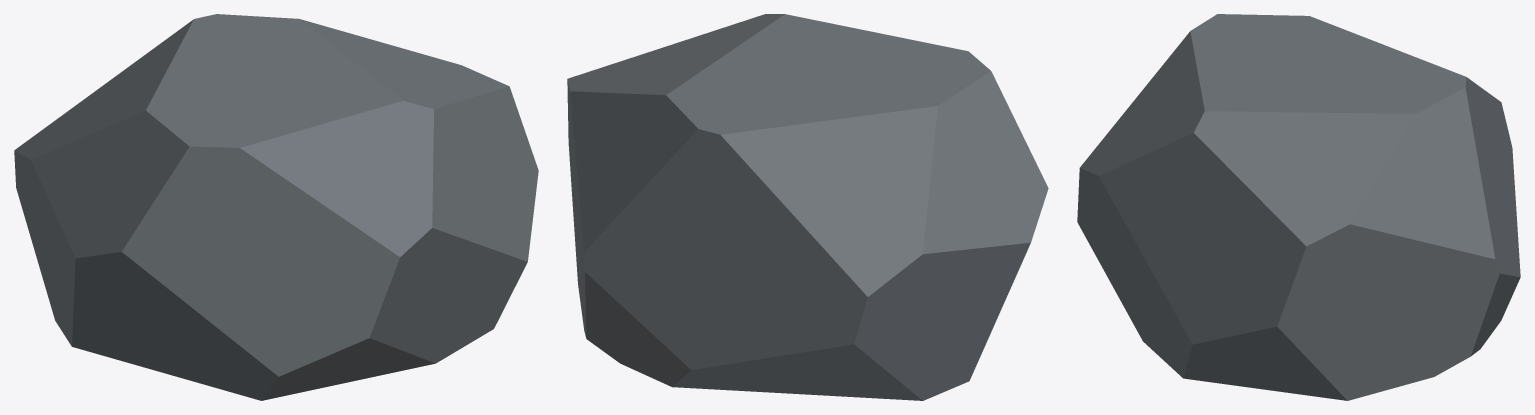
Rendered from mdvl_nature_boulder_01.glb.
The picture shows the model from 3 angles, left to right: view 1: azimuth 30°, elevation 25°; view 2: azimuth 150°, elevation 25°; view 3: azimuth 270°, elevation 25°; orthographic projection. The views are drawn at different scales.
Parts seen in each view (by area): view 1: mdvl_nature_boulder_01; view 2: mdvl_nature_boulder_01; view 3: mdvl_nature_boulder_01.
Part boxes in pixels (x1=…): mdvl_nature_boulder_01: x1=14, y1=14, x2=538, y2=400; mdvl_nature_boulder_01: x1=567, y1=14, x2=1048, y2=400; mdvl_nature_boulder_01: x1=1077, y1=14, x2=1520, y2=400.
Size of the model in its own units: 1.54 by 0.77 by 1.34.
Materials: 1 (1 with a texture image).
